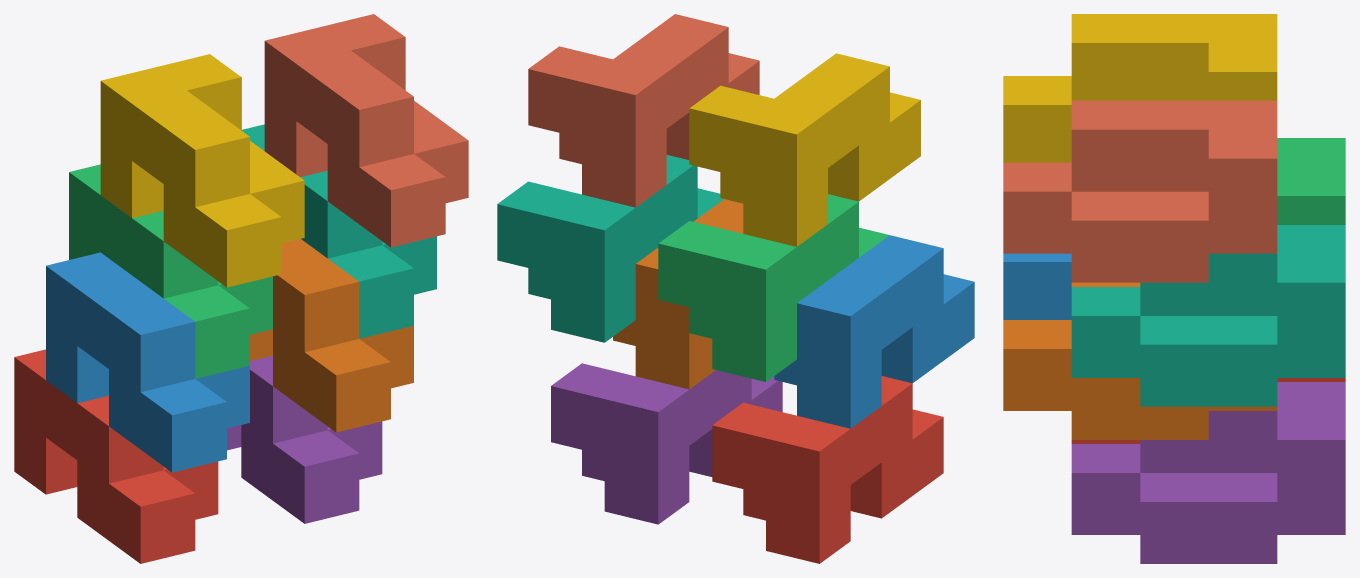
File: tiling.obj
The picture shows the model from 3 angles, left to right: view 1: azimuth 30°, elevation 25°; view 2: azimuth 150°, elevation 25°; view 3: azimuth 270°, elevation 25°; orthographic projection. The views are drawn at different scales.
Parts seen in each view (by area): view 1: copy_1_domain_4, copy_1_domain_8, copy_1_domain_2, copy_1_domain_1, copy_1_domain_6, copy_1_domain_3, copy_1_domain_5, copy_1_domain_7; view 2: copy_1_domain_4, copy_1_domain_1, copy_1_domain_8, copy_1_domain_2, copy_1_domain_5, copy_1_domain_3, copy_1_domain_7, copy_1_domain_6; view 3: copy_1_domain_8, copy_1_domain_7, copy_1_domain_5, copy_1_domain_4, copy_1_domain_6, copy_1_domain_3, copy_1_domain_2, copy_1_domain_1.
Boxes of the visible parts, bbox=[...] form: copy_1_domain_4: bbox=[100, 54, 304, 287]; copy_1_domain_8: bbox=[264, 14, 468, 247]; copy_1_domain_2: bbox=[46, 252, 249, 472]; copy_1_domain_1: bbox=[14, 349, 218, 563]; copy_1_domain_6: bbox=[250, 239, 413, 432]; copy_1_domain_3: bbox=[69, 164, 272, 378]; copy_1_domain_5: bbox=[227, 355, 382, 523]; copy_1_domain_7: bbox=[241, 124, 436, 338]; copy_1_domain_4: bbox=[689, 53, 920, 246]; copy_1_domain_1: bbox=[712, 376, 943, 563]; copy_1_domain_8: bbox=[528, 14, 759, 207]; copy_1_domain_2: bbox=[774, 235, 974, 428]; copy_1_domain_5: bbox=[551, 363, 782, 524]; copy_1_domain_3: bbox=[658, 194, 889, 381]; copy_1_domain_7: bbox=[497, 155, 723, 342]; copy_1_domain_6: bbox=[613, 199, 743, 389]; copy_1_domain_8: bbox=[1003, 100, 1277, 282]; copy_1_domain_7: bbox=[1071, 225, 1345, 406]; copy_1_domain_5: bbox=[1071, 382, 1345, 563]; copy_1_domain_4: bbox=[1003, 14, 1277, 162]; copy_1_domain_6: bbox=[1003, 282, 1277, 439]; copy_1_domain_3: bbox=[1277, 138, 1345, 224]; copy_1_domain_2: bbox=[1003, 253, 1071, 319]; copy_1_domain_1: bbox=[1071, 378, 1345, 443].
Size of the model in its own units: 6 by 7 by 5.
